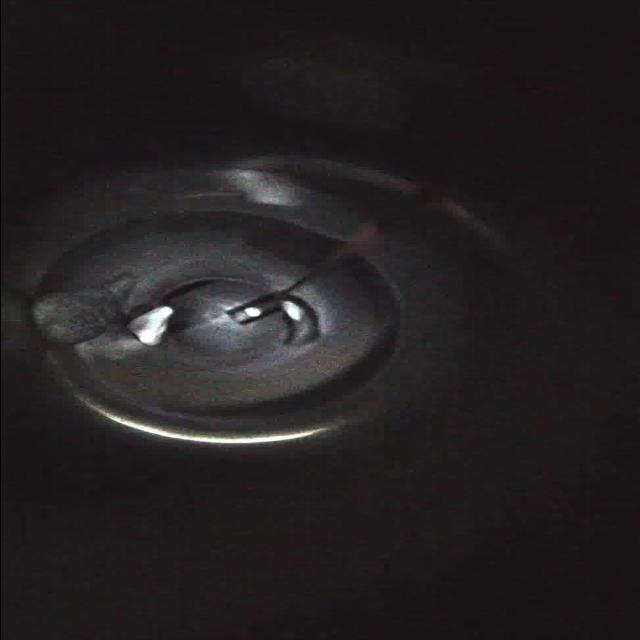impurity: (30, 290, 111, 348), (122, 303, 174, 349)
